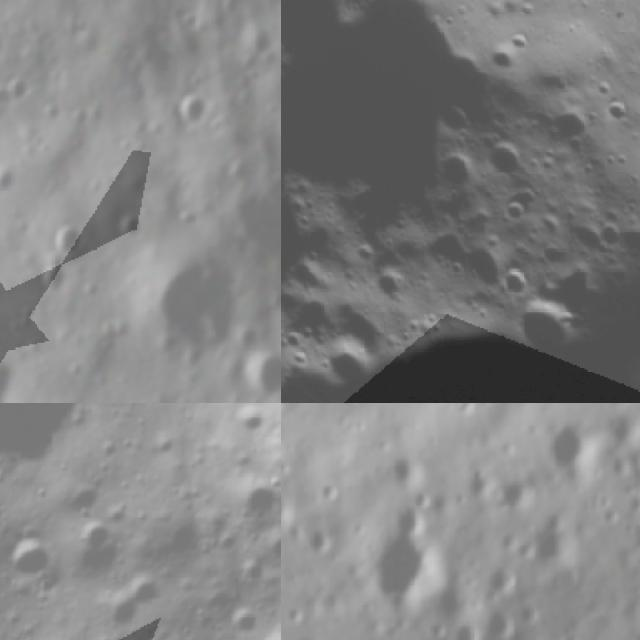crater: (207, 403, 281, 640), (0, 403, 108, 493), (372, 513, 451, 607), (511, 285, 589, 363), (0, 524, 69, 599), (527, 497, 585, 576), (319, 330, 384, 394), (84, 582, 149, 640), (543, 410, 600, 476), (225, 475, 281, 538), (50, 470, 108, 530), (480, 28, 534, 82), (478, 134, 532, 188), (66, 511, 119, 564), (118, 564, 172, 616), (546, 101, 598, 152), (216, 593, 268, 640), (245, 342, 281, 401), (578, 212, 624, 258), (375, 451, 426, 492), (462, 456, 501, 503), (492, 196, 536, 237), (599, 87, 640, 128), (0, 347, 29, 403), (372, 262, 412, 302), (496, 263, 535, 302), (485, 554, 521, 596), (304, 521, 339, 558), (35, 264, 68, 300), (485, 603, 518, 639), (56, 222, 84, 262), (188, 94, 223, 126), (352, 234, 381, 263), (447, 616, 481, 640), (590, 75, 618, 104), (4, 72, 26, 104), (281, 487, 293, 528)
